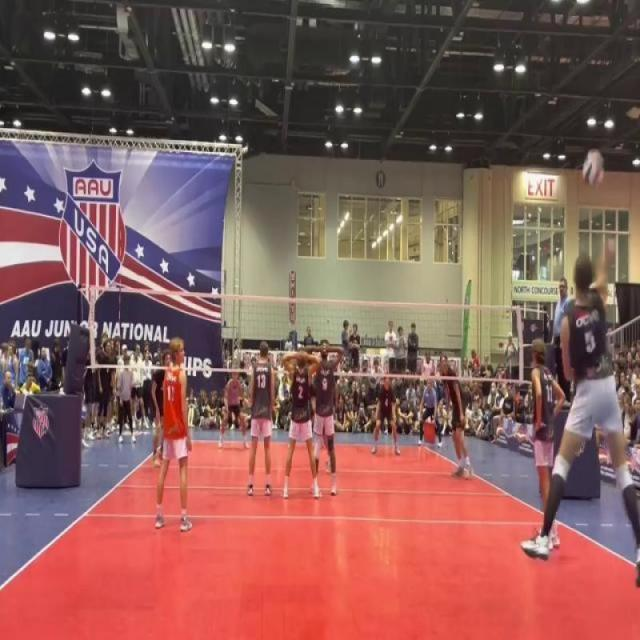volleyball: (580, 146, 608, 192)
